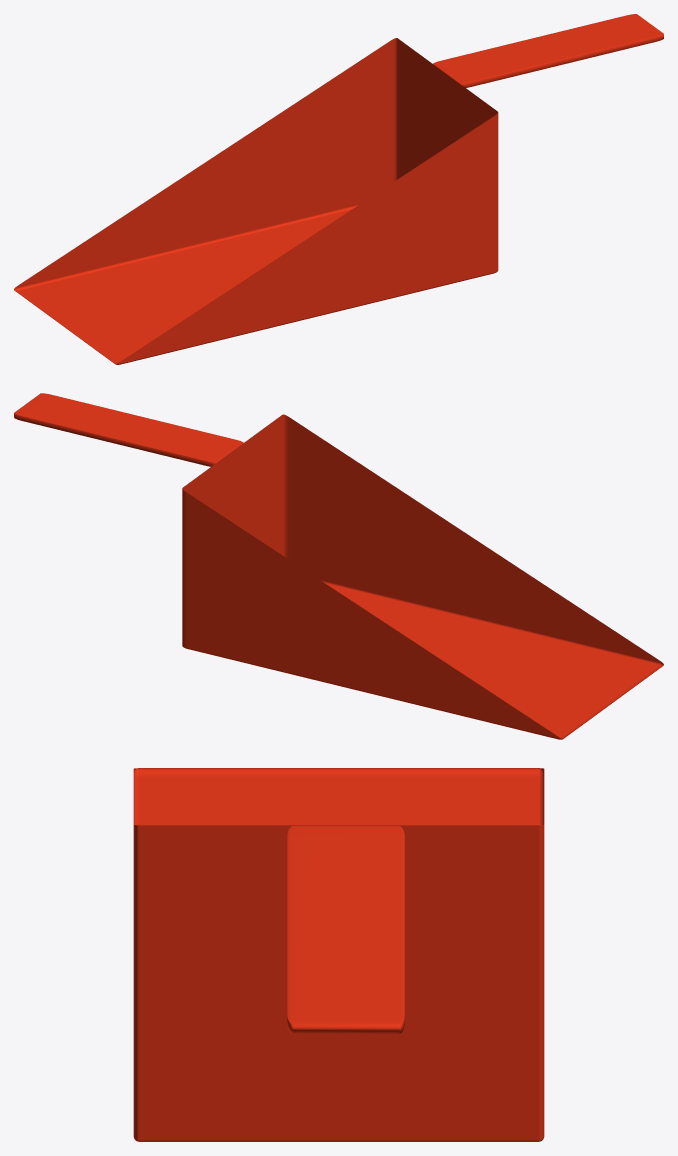
The picture shows the model from 3 angles, top to bottom: view 1: azimuth 30°, elevation 25°; view 2: azimuth 150°, elevation 25°; view 3: azimuth 270°, elevation 25°; orthographic projection. The views are drawn at different scales.
Visible parts, largest first — view 1: 立方体, 立方体.001; view 2: 立方体, 立方体.001; view 3: 立方体, 立方体.001.
Part boxes in pixels (x1,y1,x2,y2): 立方体: [14, 38, 498, 364]; 立方体.001: [433, 14, 663, 87]; 立方体: [182, 414, 663, 739]; 立方体.001: [14, 393, 243, 466]; 立方体: [133, 768, 544, 1141]; 立方体.001: [287, 826, 404, 1033].
Bounding box in the file's own units: 23.01 × 6 × 7.
